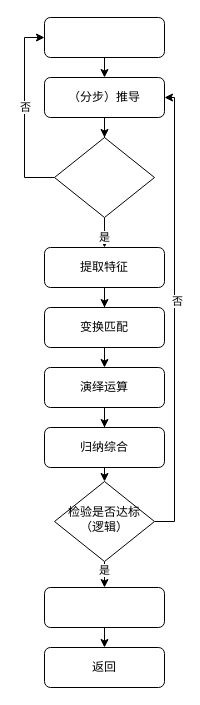
Some shapes in this 200 by 705 pixel diagram are drawn without their labels. Here are the shapes that lost their labels. From the top down, the box of each, then its label:
(44, 16, 164, 58): （事实）抽象
(54, 136, 154, 218): 判断是否更新（直觉）
(44, 586, 164, 628): 自适应反馈
